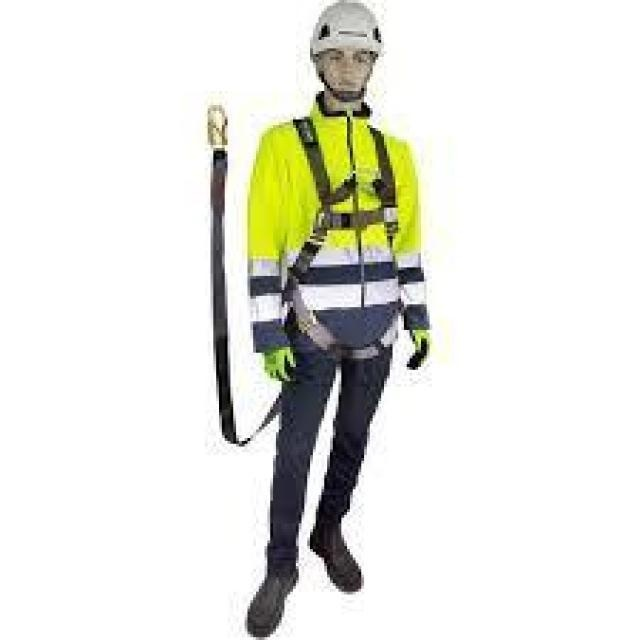Arnes_seguridad: (286, 117, 402, 362)
